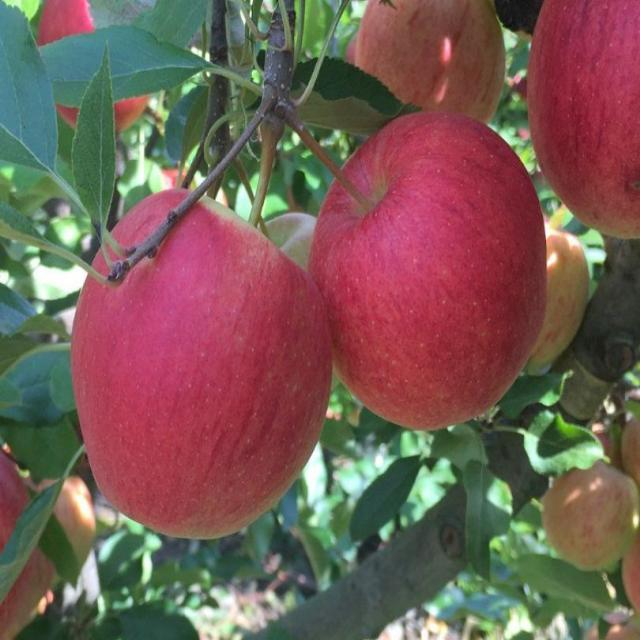Healty Apple: (334, 83, 580, 482)
Rotten Apple: (55, 161, 318, 577)
